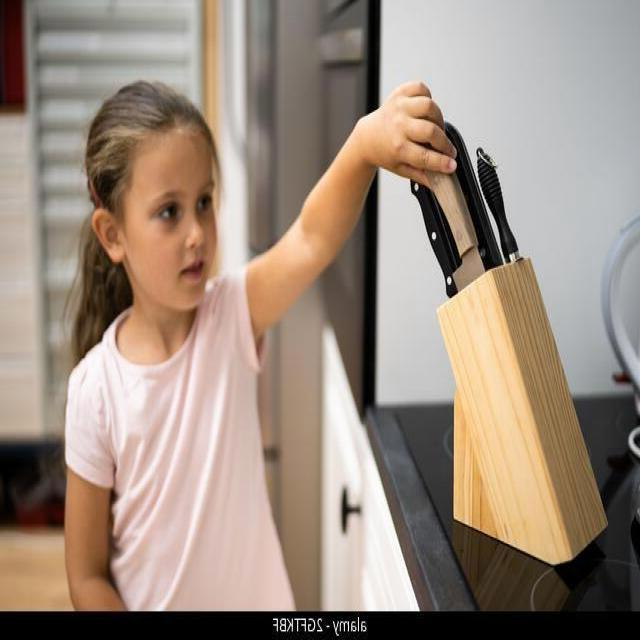child: (58, 68, 539, 612)
